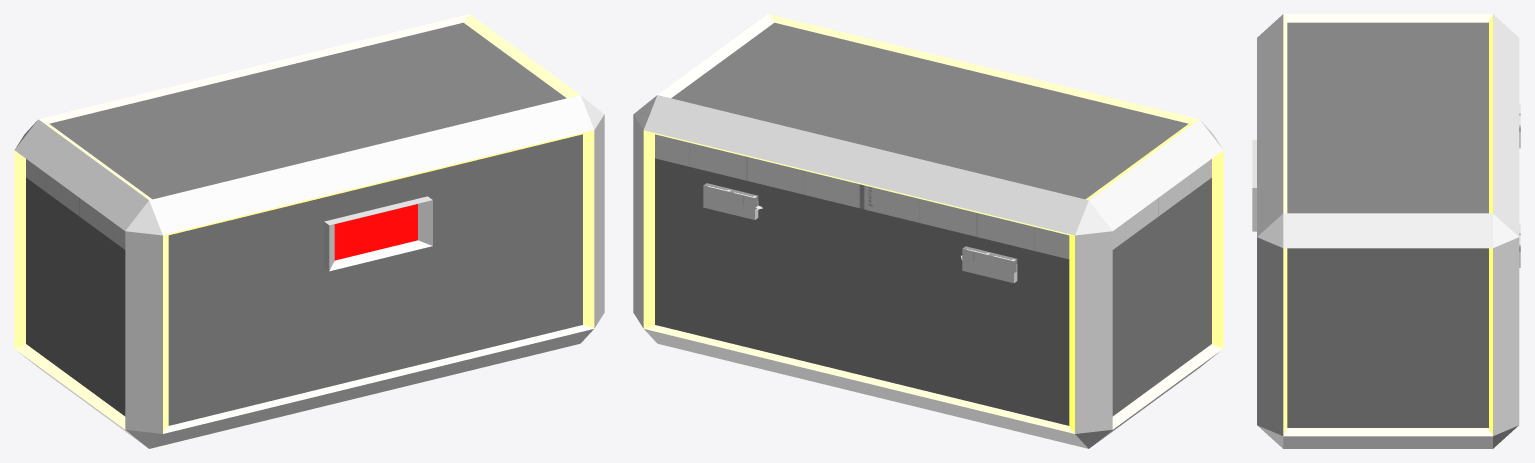
File: GunBox.fbx
3 renders of one model, left to right at view 1: azimuth 30°, elevation 25°; view 2: azimuth 150°, elevation 25°; view 3: azimuth 270°, elevation 25°, orthographic. The views are drawn at different scales.
Parts seen in each view (by area): view 1: Top, Base; view 2: Top, Base; view 3: Top, Base.
Boxes of the visible parts, bbox=[...] form: Top: bbox=[14, 14, 604, 284]; Base: bbox=[14, 162, 604, 448]; Top: bbox=[633, 14, 1223, 285]; Base: bbox=[633, 163, 1223, 448]; Top: bbox=[1252, 14, 1520, 294]; Base: bbox=[1252, 137, 1520, 448].
Size of the model in its own units: 208 by 103 by 106.
Materials: 6 (1 with a texture image).
